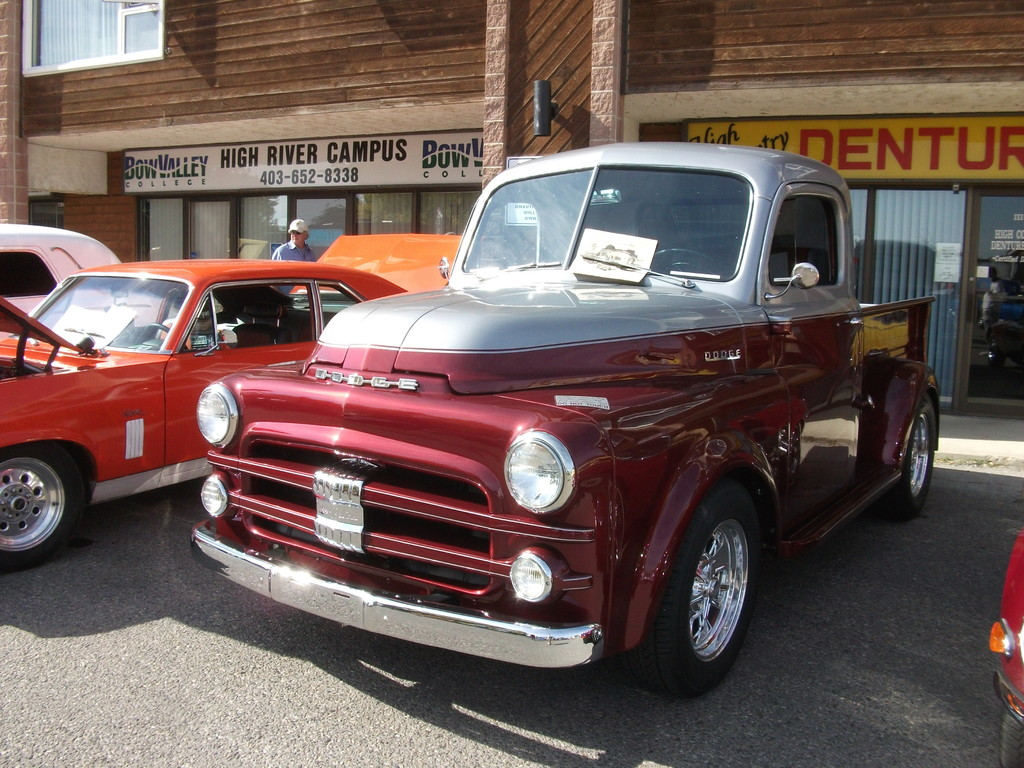Car: (172, 133, 933, 736), (0, 232, 464, 568), (0, 219, 165, 339), (987, 526, 1023, 767)
